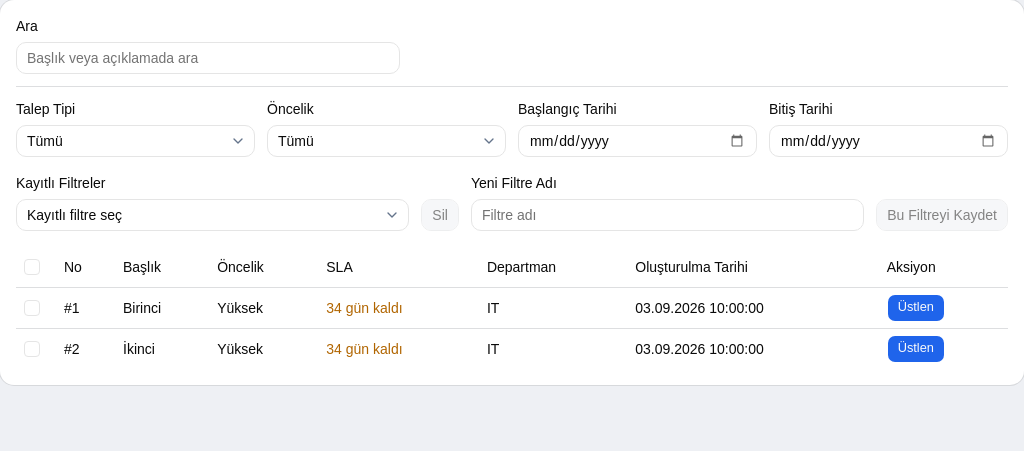
Test: Queue page › shows the bulk action bar only once a row is selected
Expected: the table is shown, [16, 247, 1008, 368]
Expected: the button "Seçilenleri Üstlen" is not shown
Click the checkbox named "#1 seç": (32, 308) [24, 300, 40, 316]
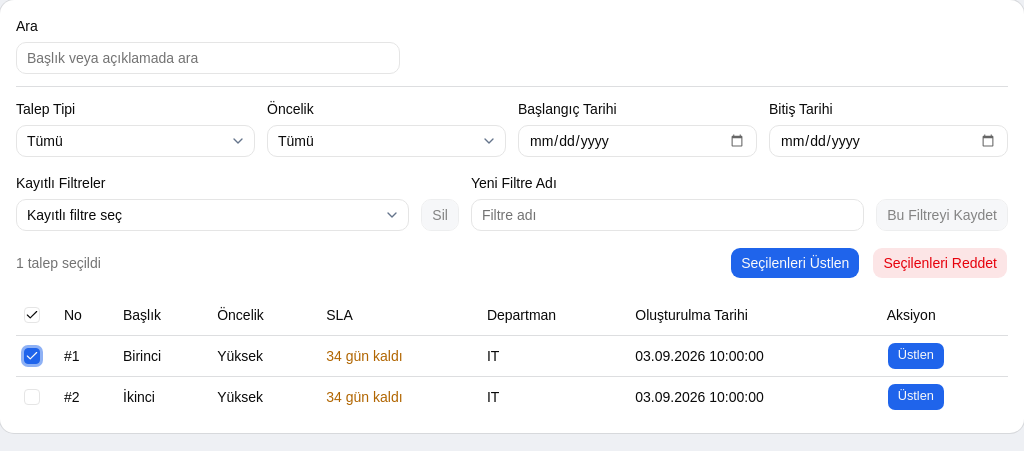
Now the text "1 talep seçildi" is shown, box [16, 253, 101, 273]
Now the button "Seçilenleri Üstlen" is shown, box [730, 247, 860, 279]
Now the button "Seçilenleri Reddet" is shown, box [872, 247, 1008, 279]
